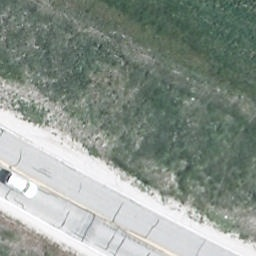car: (6, 174, 38, 200)
